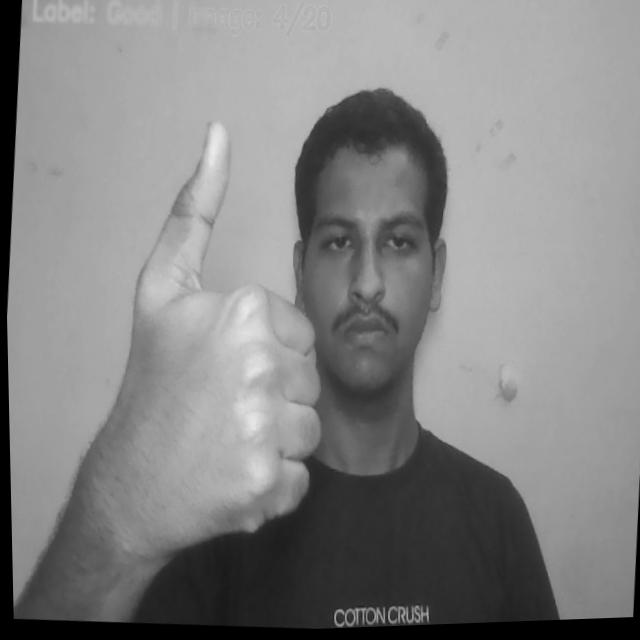Good: (86, 107, 340, 569)
